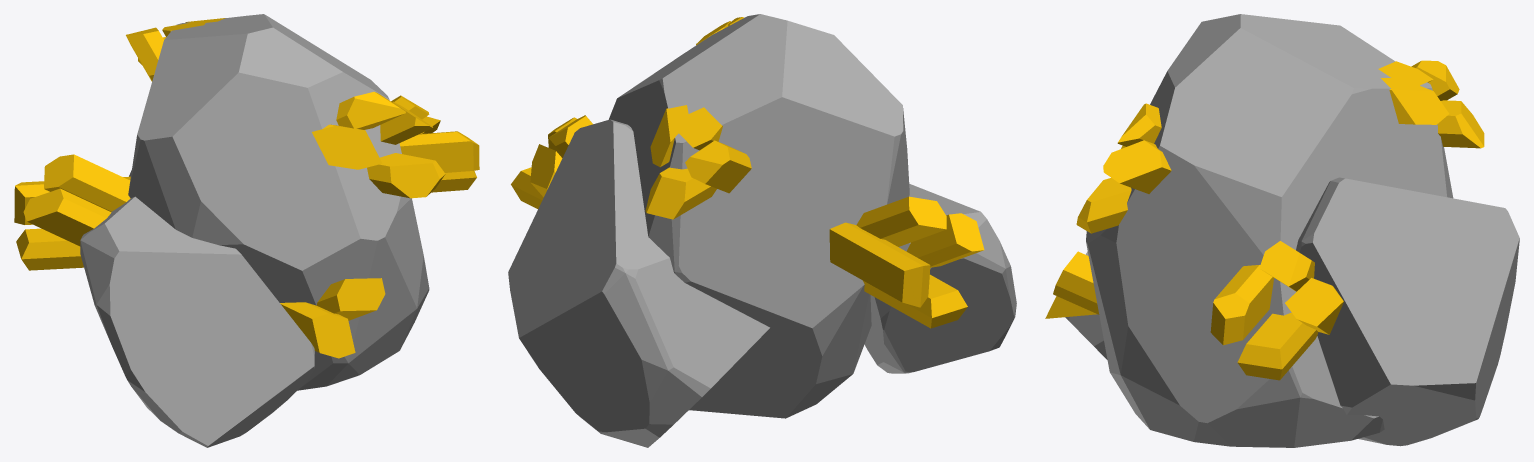
Rendered from GoldMid.fbx.
3 views of the same model, side by side, from view 1: azimuth 30°, elevation 25°; view 2: azimuth 150°, elevation 25°; view 3: azimuth 270°, elevation 25° (orthographic). The views are drawn at different scales.
Visible parts, largest first — view 1: Cube.003; view 2: Cube.003; view 3: Cube.003.
Boxes of the visible parts, x1,y1,x2,y2 form: Cube.003: [14, 14, 479, 447]; Cube.003: [508, 14, 1016, 447]; Cube.003: [1045, 14, 1519, 447].
Size of the model in its own units: 39.98 by 30.19 by 32.95.
